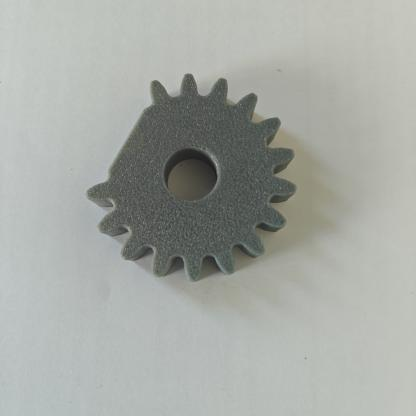defect: (68, 74, 165, 198)
gear: (54, 63, 332, 298)
